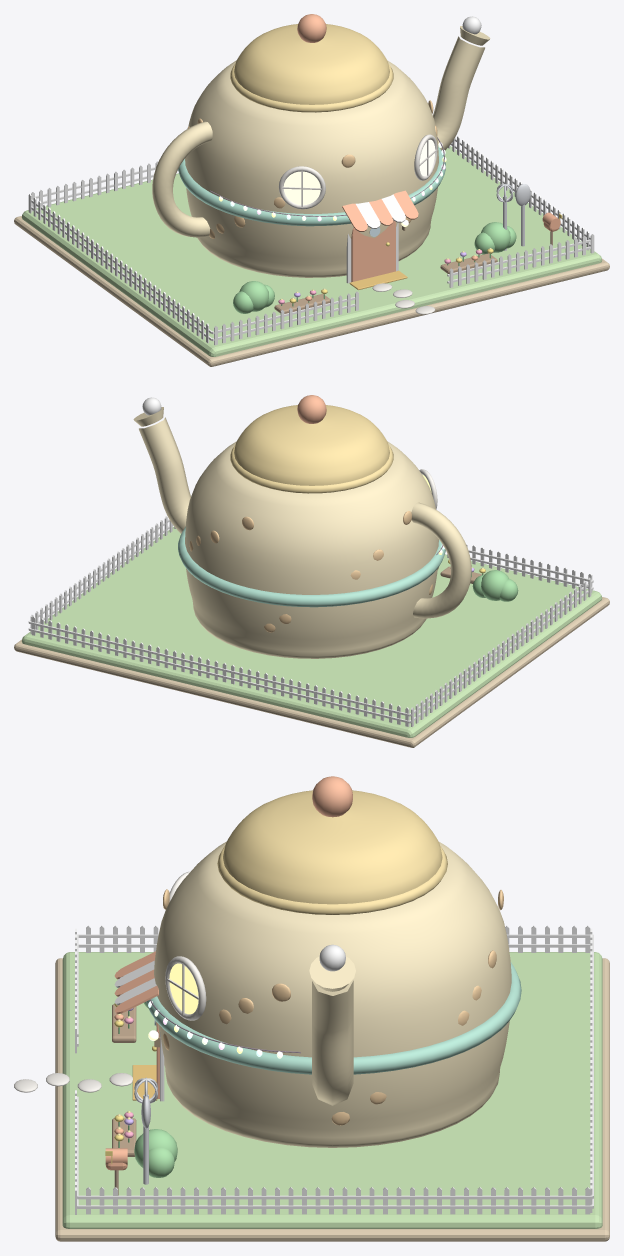
Rendered from building_kitchen_L09.glb.
3 renders of one model, top to bottom at view 1: azimuth 30°, elevation 25°; view 2: azimuth 150°, elevation 25°; view 3: azimuth 270°, elevation 25°, orthographic. The views are drawn at different scales.
Parts seen in each view (by area): view 1: Body, kitchen_L9; view 2: Body, kitchen_L9; view 3: Body, kitchen_L9.
Part boxes in pixels (x1=…): Body: x1=152, y1=14, x2=530, y2=289; kitchen_L9: x1=14, y1=16, x2=609, y2=366; Body: x1=133, y1=395, x2=471, y2=658; kitchen_L9: x1=14, y1=397, x2=609, y2=747; Body: x1=114, y1=776, x2=521, y2=1184; kitchen_L9: x1=14, y1=925, x2=609, y2=1241.
Bounding box in the file's own units: 26.61 × 14.72 × 24.29.
